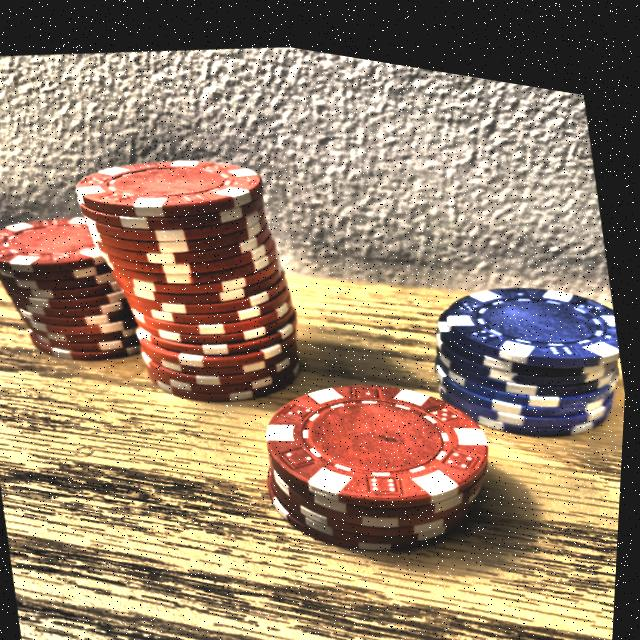Chip: (51, 92, 352, 443), (235, 310, 548, 607), (406, 228, 631, 467), (0, 173, 152, 401)
